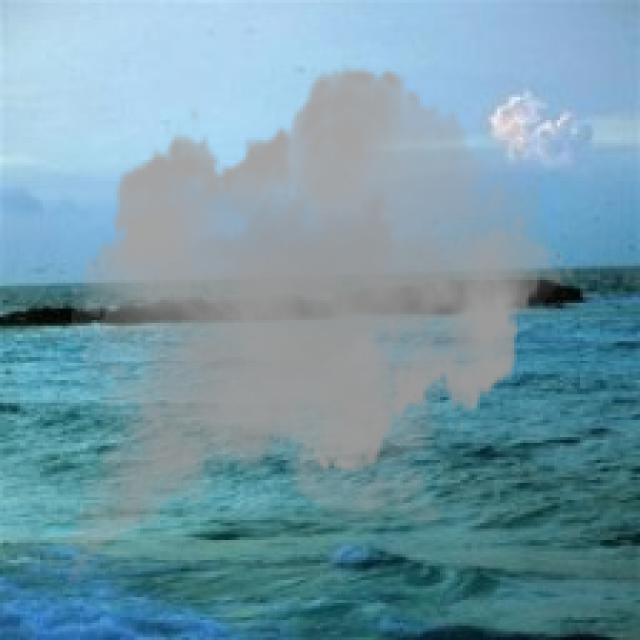Smoke: (51, 52, 578, 618)
